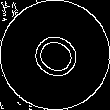O_SE: (22, 23, 88, 87)
